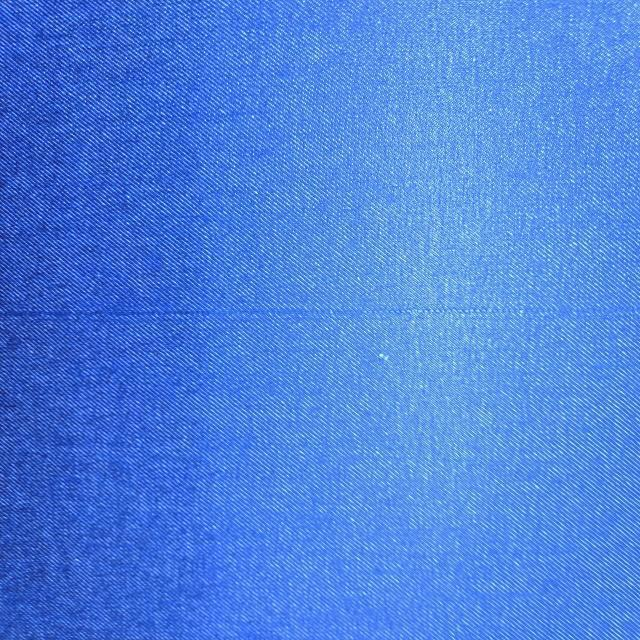Line: (0, 304, 640, 326)
